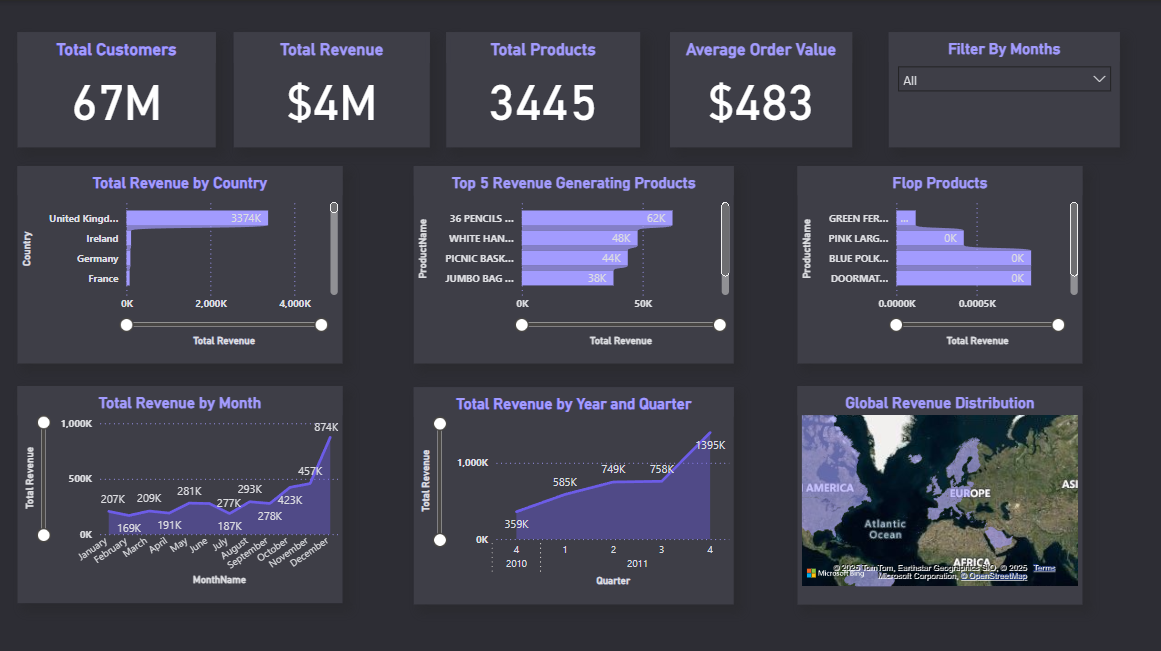

What the dashboard file says about the page in this screenshot:
{"tool":"powerbi","page":{"name":"Retail ","canvas":[1280,720],"ordinal":0},"visuals":[{"type":"barChart","fields":{"Category":["Geography.Country"],"Y":["SalesDetails.Total Revenue"]},"box":[19.2,181.1,356.8,216.8],"z":0},{"type":"areaChart","fields":{"Category":["DateDim.Year","DateDim.Quarter"],"Y":["SalesDetails.Total Revenue"]},"box":[427.9,422.1,351.2,239.5],"z":1000},{"type":"areaChart","title":"Total Revenue by Month","fields":{"Category":["DateDim.MonthName"],"Y":["SalesDetails.Total Revenue"]},"box":[19.2,422.6,356.8,238.8],"z":2000},{"type":"barChart","title":"Top 5 Revenue Generating Products","fields":{"Y":["SalesDetails.Total Revenue"],"Category":["Product.ProductName"]},"box":[428.1,181.1,351.3,216.8],"z":3000},{"type":"barChart","title":"Flop Products ","fields":{"Y":["SalesDetails.Total Revenue"],"Category":["Product.ProductName"]},"box":[875.5,181.1,312.9,216.8],"z":4000},{"type":"card","title":"Total Customers","fields":{"Values":["Customer.Total Customers"]},"box":[19.8,33.7,217.4,126.7],"z":5000},{"type":"card","title":"Total Revenue","fields":{"Values":["SalesDetails.Total Revenue"]},"box":[257,33.7,215.1,126.7],"z":6000},{"type":"card","title":"Total Products","fields":{"Values":["Product.Total Products"]},"box":[489.5,33.7,212.8,126.7],"z":7000},{"type":"card","title":"Average Order Per Month ","fields":{"Values":["SalesDetails.Average Order Per Day"]},"box":[736,33.7,200,126.7],"z":8000},{"type":"slicer","title":"Filter By Months","fields":{"Values":["DateDim.MonthName","DateDim.Year"]},"box":[993.5,54.9,237.4,94.7],"z":9000},{"type":"filledMap","title":"Global Revenue Distribution","fields":{"Category":["Geography.Country"]},"box":[875.5,422.6,312.9,240.1],"z":10000}]}

Visuals, with their boxes in screenshot pixels (x1, y1, x2, y2), scaled from the page's 1280x720 canvas onto the 1161x651 screenshot:
barChart - Geography.Country x SalesDetails.Total Revenue: region(17, 164, 341, 360)
areaChart - DateDim.Year x DateDim.Quarter: region(388, 382, 707, 598)
"Total Revenue by Month" areaChart: region(17, 382, 341, 598)
"Top 5 Revenue Generating Products" barChart: region(388, 164, 707, 360)
"Flop Products " barChart: region(794, 164, 1078, 360)
"Total Customers" card: region(18, 30, 215, 145)
"Total Revenue" card: region(233, 30, 428, 145)
"Total Products" card: region(444, 30, 637, 145)
"Average Order Per Month " card: region(668, 30, 849, 145)
"Filter By Months" slicer: region(901, 50, 1116, 135)
"Global Revenue Distribution" filledMap: region(794, 382, 1078, 599)
